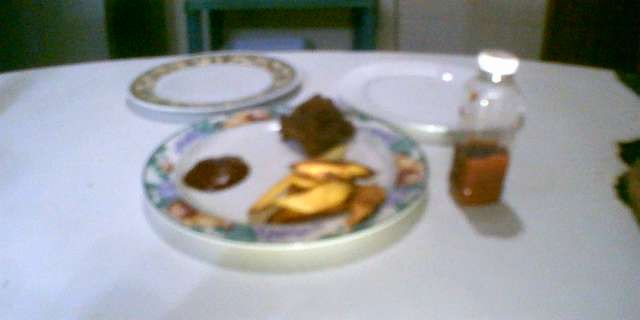chicken: (277, 92, 362, 158)
empty_plate: (329, 53, 532, 144), (123, 40, 304, 123)
ketchup_bottle: (444, 40, 525, 214)
ketchup_portion: (182, 148, 252, 194)
potatoe_fries: (252, 145, 390, 236)
